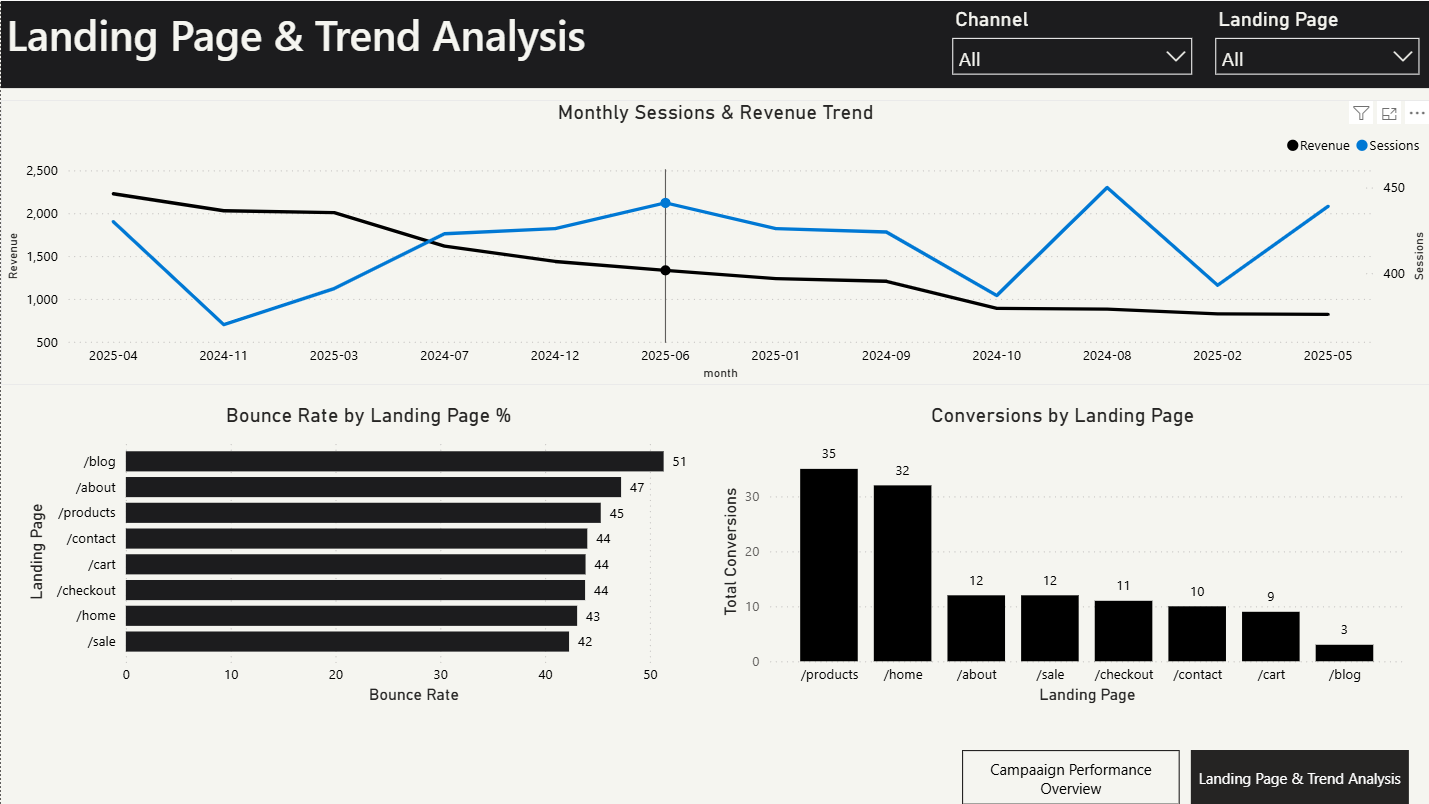

The dashboard page shown, as its layout file describes it:
{"tool":"powerbi","page":{"name":"Landing Page & Trend Analysis","canvas":[1280,720],"ordinal":1},"visuals":[{"type":"textbox","box":[0,0,1280,78],"z":0},{"type":"clusteredBarChart","title":"Bounce Rate by Landing Page %","fields":{"Category":["web_sessions.landing_page"],"Y":["web_sessions.Channel Bounce Rate"]},"box":[18.8,360.3,621.2,274.3],"z":2000},{"type":"clusteredColumnChart","title":"Conversions by Landing Page","fields":{"Category":["web_sessions.landing_page"],"Y":["web_monthly_trend.Total Conversions"]},"box":[640,360.3,621.2,274.3],"z":3000},{"type":"slicer","fields":{"Values":["web_monthly_trend.month","web_monthly_trend.month.Variation.Date Hierarchy.Month"]},"box":[841.7,0,235.3,78],"z":3001},{"type":"pageNavigator","box":[860.5,670.9,400.7,49.7],"z":3002},{"type":"slicer","fields":{"Values":["web_sessions.landing_page"]},"box":[1077,0,203,78],"z":3003},{"type":"lineChart","title":"Monthly Sessions & Revenue Trend","fields":{"Category":["web_sessions.month"],"Y":["web_sessions.Monthly Revenue"],"Y2":["web_sessions.Monthly Sessions"]},"box":[0,88.7,1280,255.5],"z":3004}]}

Visuals, with their boxes in screenshot pixels (x1, y1, x2, y2), scaled from the page's 1280x720 canvas onto the 1429x804 screenshot:
textbox: rect(0, 0, 1428, 87)
"Bounce Rate by Landing Page %" clusteredBarChart: rect(21, 402, 714, 709)
"Conversions by Landing Page" clusteredColumnChart: rect(714, 402, 1408, 709)
slicer - web_monthly_trend.month x web_monthly_trend.month.Variation.Date Hierarchy.Month: rect(940, 0, 1202, 87)
pageNavigator: rect(961, 749, 1408, 803)
slicer - web_sessions.landing_page: rect(1202, 0, 1428, 87)
"Monthly Sessions & Revenue Trend" lineChart: rect(0, 99, 1428, 384)
